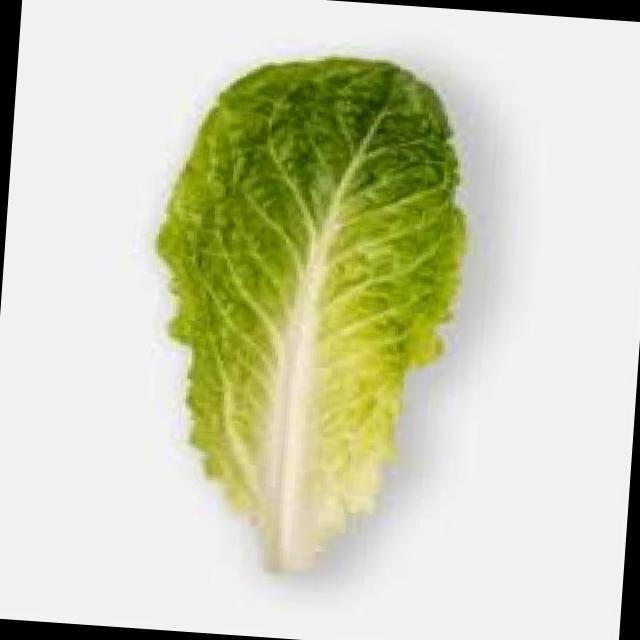Lettuce-Ready-to-Harvest: (158, 57, 465, 569)
